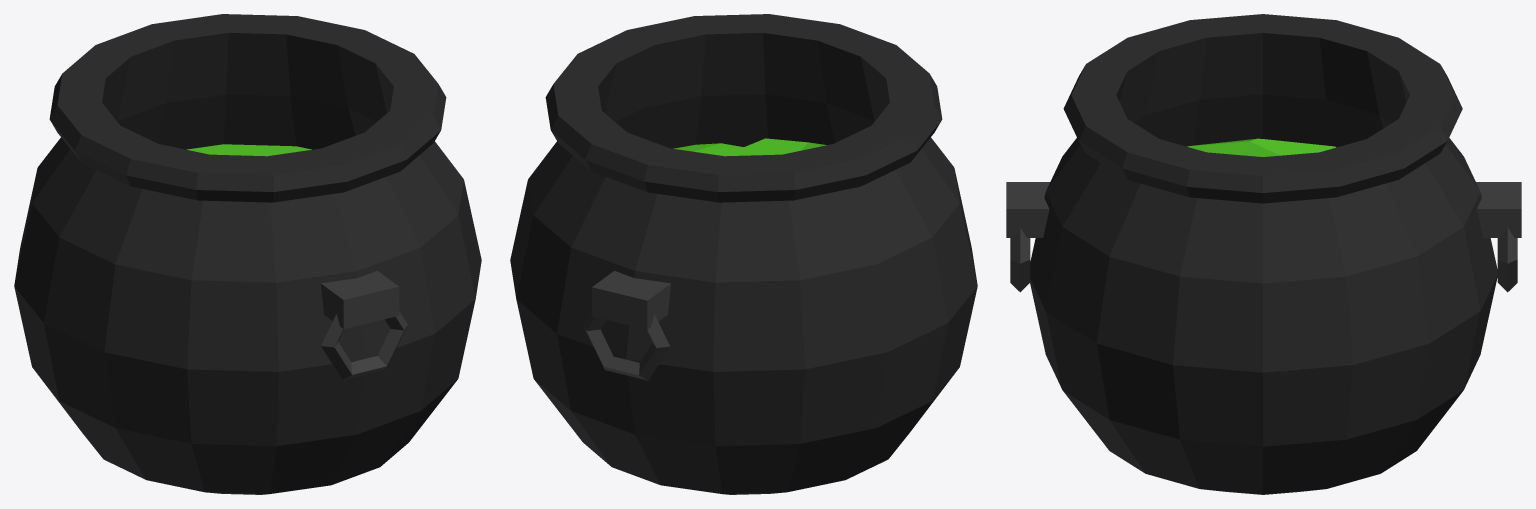
File: cauldron_full.fbx
The picture shows the model from 3 angles, left to right: view 1: azimuth 30°, elevation 25°; view 2: azimuth 150°, elevation 25°; view 3: azimuth 270°, elevation 25°; orthographic projection.
Parts seen in each view (by area): view 1: cauldron_full; view 2: cauldron_full; view 3: cauldron_full.
Part boxes in pixels (x1,y1,x2,y2): cauldron_full: (14,14,481,494); cauldron_full: (510,14,977,494); cauldron_full: (1006,14,1521,494).
Bounding box in the file's own units: 163 × 137 × 179.
